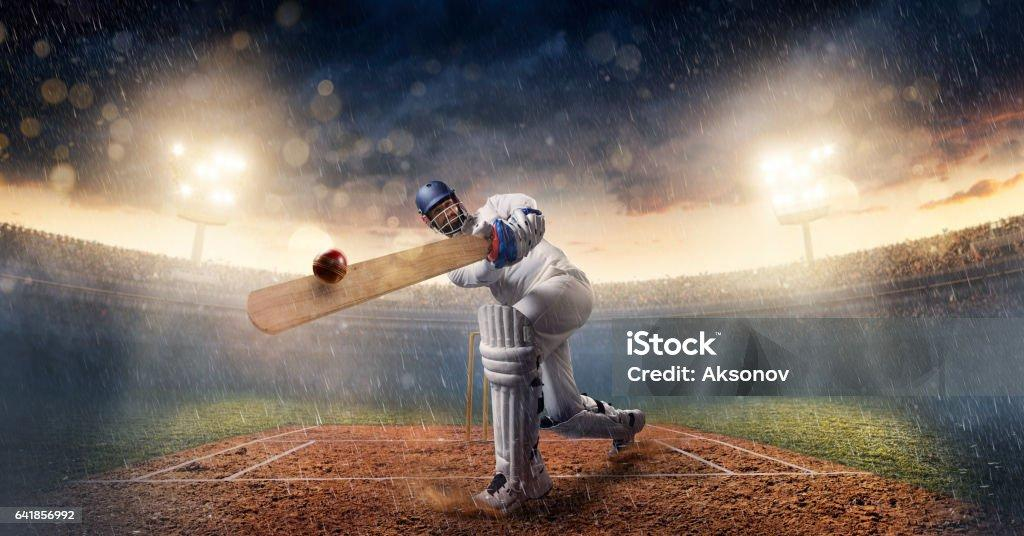batsman: (404, 164, 662, 500)
